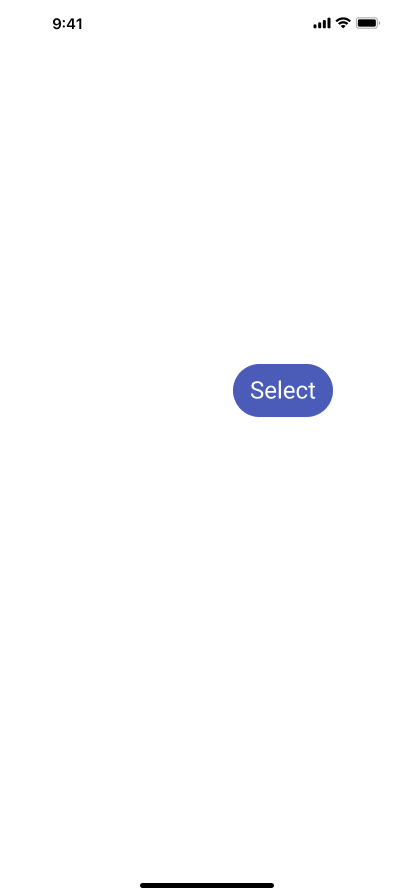Buttons: (228, 359, 338, 422)
Home Indicator: (0, 862, 414, 896)
Status Bar: (0, 0, 414, 44)
